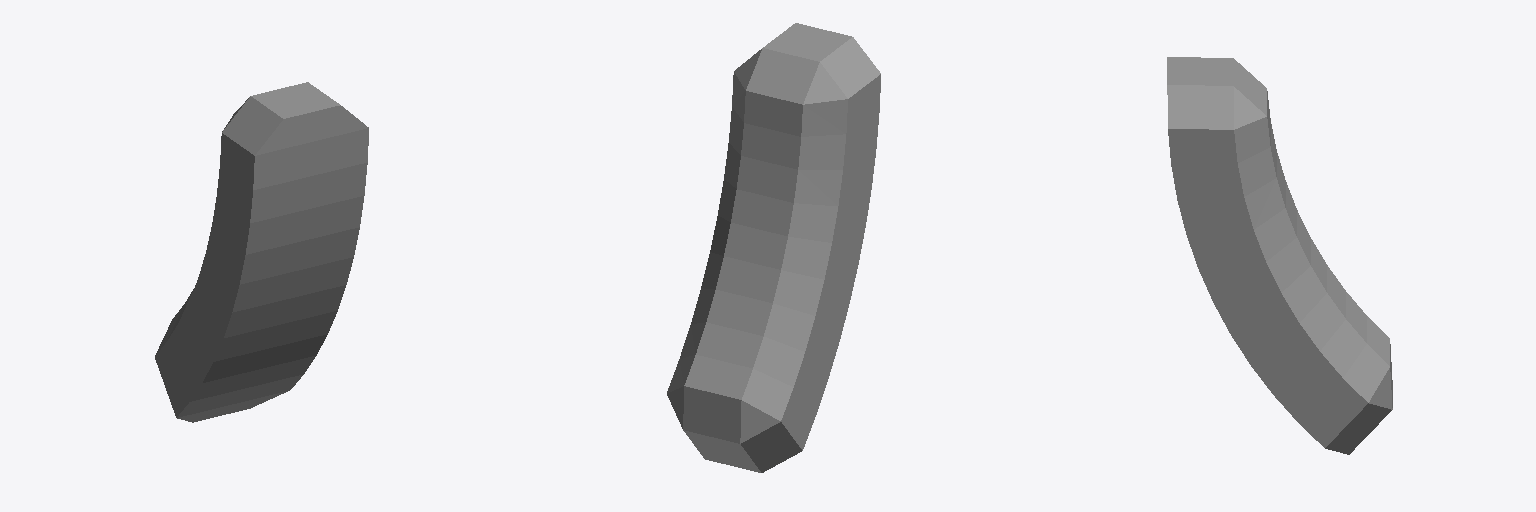
File: QuarterRing-Long.obj
3 views of the same model, side by side, from view 1: azimuth 30°, elevation 25°; view 2: azimuth 150°, elevation 25°; view 3: azimuth 270°, elevation 25° (orthographic).
Visible parts, largest first — view 1: QuarterRing-Long; view 2: QuarterRing-Long; view 3: QuarterRing-Long.
Boxes of the visible parts, x1,y1,x2,y2 form: QuarterRing-Long: [155, 82, 368, 422]; QuarterRing-Long: [667, 23, 880, 472]; QuarterRing-Long: [1167, 57, 1392, 454].
Bounding box in the file's own units: 2 × 6.18 × 3.41.